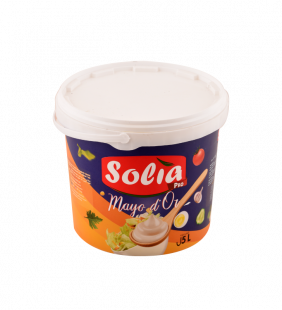SOLIA: (47, 55, 235, 261)
